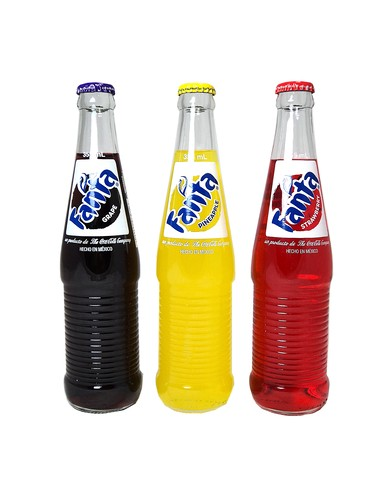Rec_Glass: (40, 81, 149, 415), (245, 67, 342, 432), (148, 78, 239, 415)
